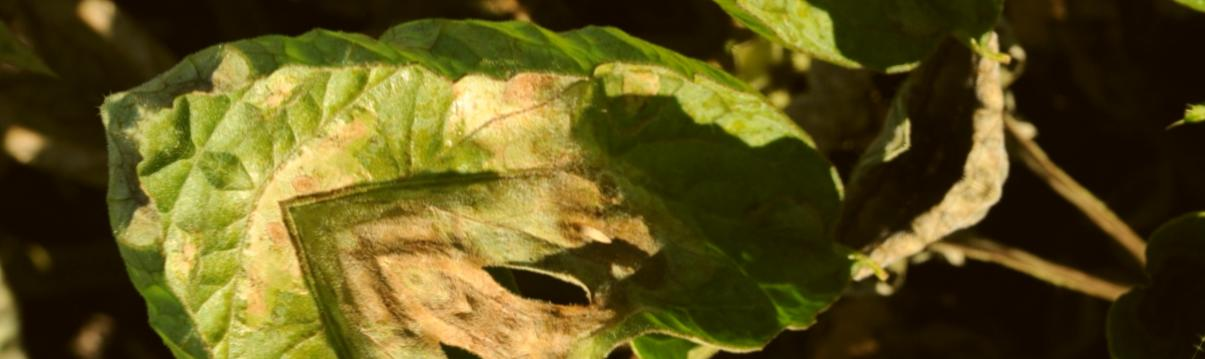Tomato leaf late blight: (95, 0, 903, 359)
